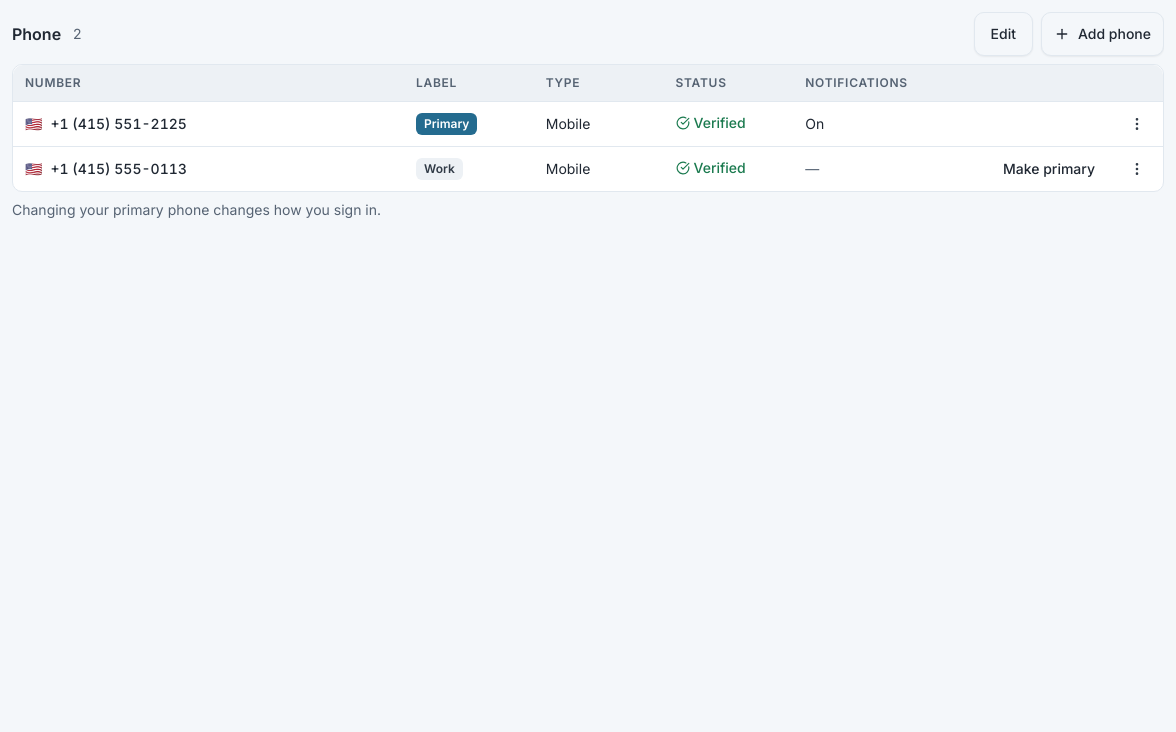
Scenario: PhoneSection: Make primary eligibility (Story 3.4) › Not offered in edit view (a new row included)
The width and height of the screenshot is (1176, 732).
Click the button "Add phone" at (1102, 34), box [1041,12,1164,56]
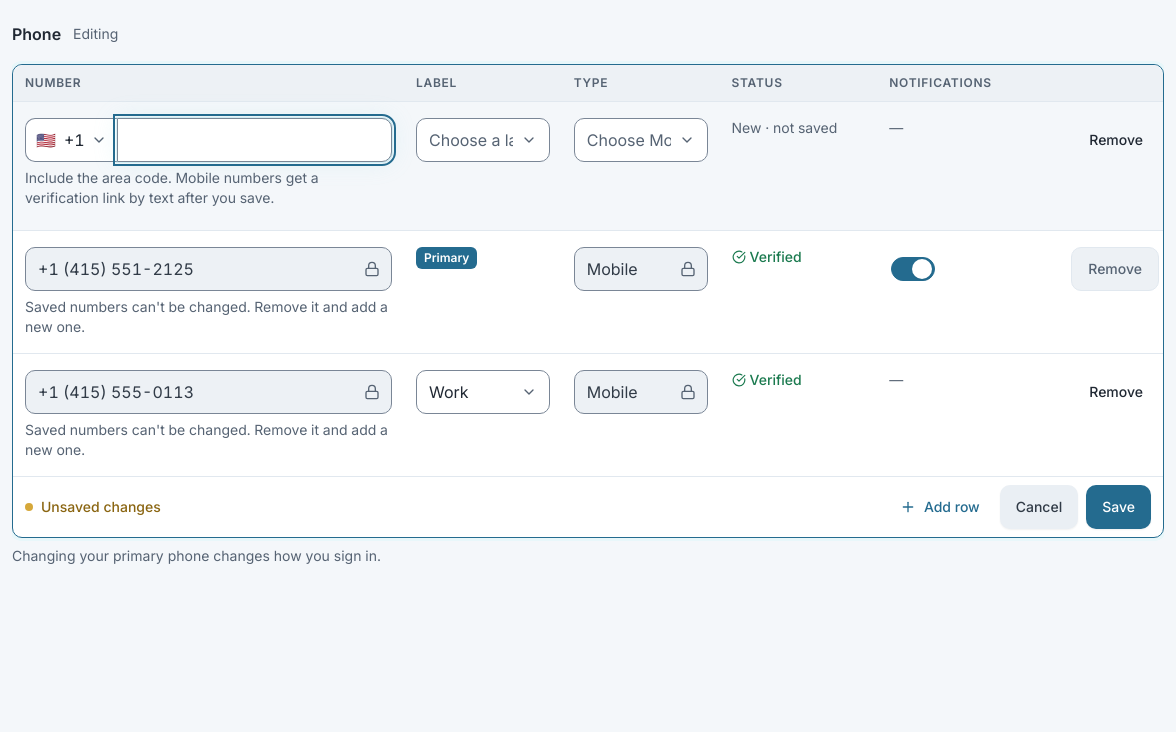
Check: the button "Make primary" is gone
